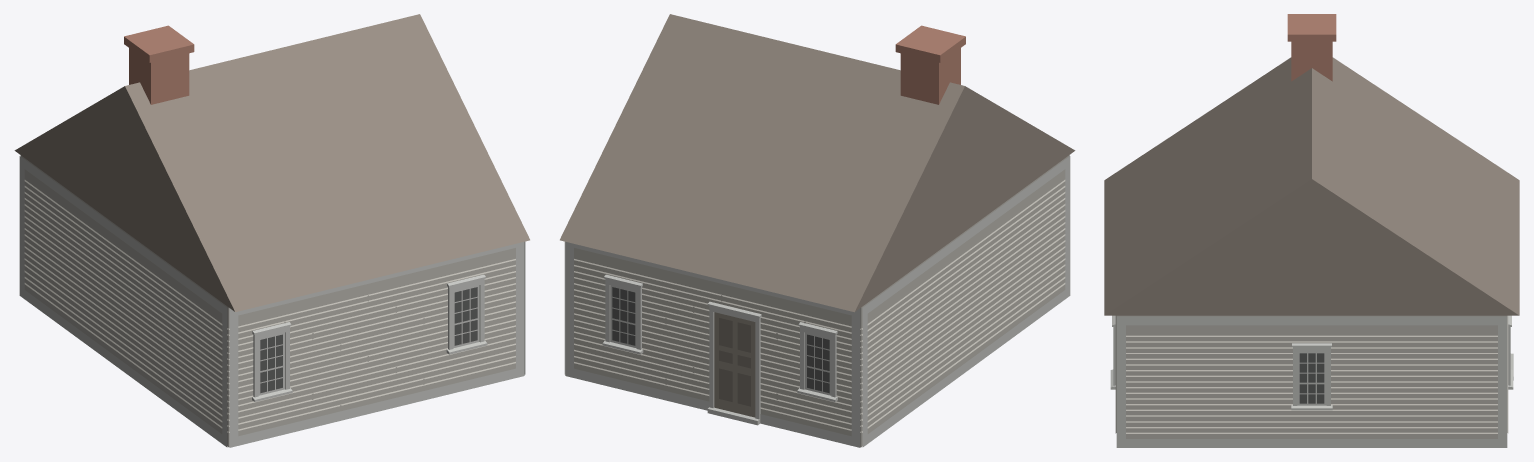
File: recon_1835_blk_lake_market_d4_02__inferred_1835.glb
3 views of the same model, side by side, from view 1: azimuth 30°, elevation 25°; view 2: azimuth 150°, elevation 25°; view 3: azimuth 270°, elevation 25° (orthographic). The views are drawn at different scales.
Parts seen in each view (by area): view 1: recon_1835_blk_lake_market_d4_02__inferred_1835; view 2: recon_1835_blk_lake_market_d4_02__inferred_1835; view 3: recon_1835_blk_lake_market_d4_02__inferred_1835.
Boxes of the visible parts, <box> form: recon_1835_blk_lake_market_d4_02__inferred_1835: <box>14,14,529,447</box>; recon_1835_blk_lake_market_d4_02__inferred_1835: <box>560,14,1075,447</box>; recon_1835_blk_lake_market_d4_02__inferred_1835: <box>1104,14,1519,447</box>.
Bounding box in the file's own units: 6.63 × 6.76 × 8.39.
